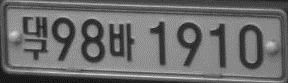0: (238, 23, 264, 69)
1: (147, 20, 172, 65), (208, 23, 233, 67)
8: (80, 17, 106, 62)
9: (176, 21, 203, 66), (51, 16, 76, 61)
대구_V: (21, 15, 49, 60)
바: (108, 22, 135, 60)
